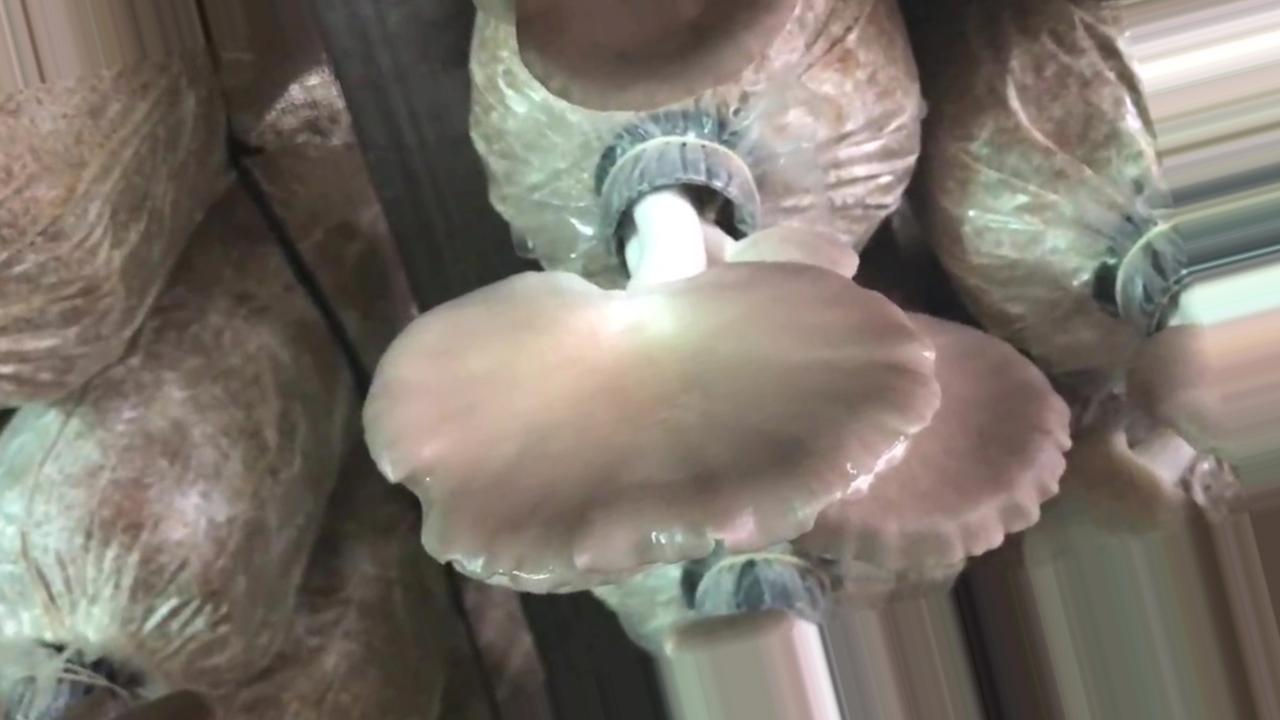nam: (361, 127, 938, 595), (795, 316, 1075, 587), (1070, 253, 1230, 543), (513, 2, 798, 113)
